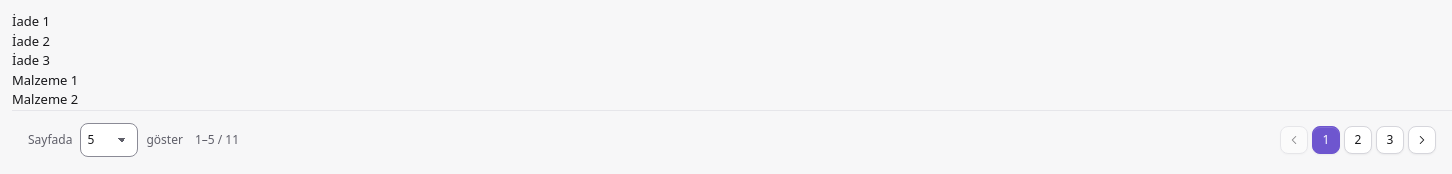
Test: paginates mixed row groups as one list with numbered pages and correct boundaries
Check: the text "1–5 / 11" is shown, box x1=195 y1=130 x2=239 y2=148
Check: the button named "Önceki sayfa" is disabled, box x1=1280 y1=126 x2=1308 y2=154
Click the button named "2. sayfa" at (1358, 140), box x1=1344 y1=126 x2=1372 y2=154
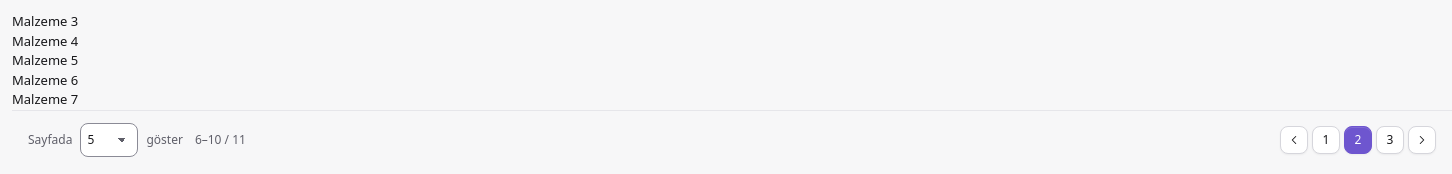
Check: the text "6–10 / 11" is shown, box x1=195 y1=130 x2=246 y2=148
Check: the text "Malzeme 3" is shown, box x1=12 y1=12 x2=78 y2=30
Check: the text "Malzeme 7" is shown, box x1=12 y1=90 x2=78 y2=108
Click the button named "Sonraki sayfa" at (1422, 140), box x1=1408 y1=126 x2=1436 y2=154
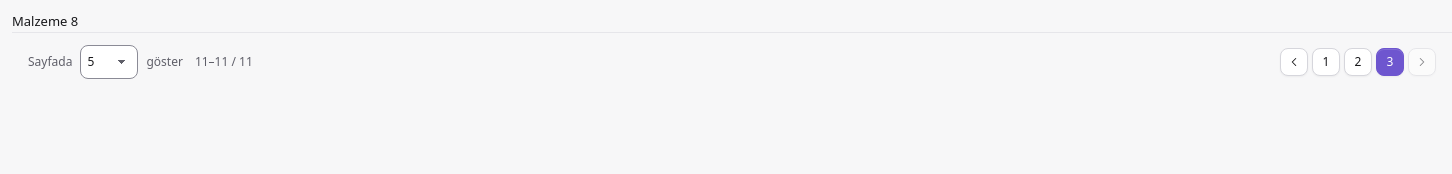
Check: the button named "Sonraki sayfa" is disabled, box x1=1408 y1=48 x2=1436 y2=76
Check: the text "11–11 / 11" is shown, box x1=195 y1=52 x2=253 y2=70
Check: the text "Malzeme 8" is shown, box x1=12 y1=12 x2=78 y2=30
